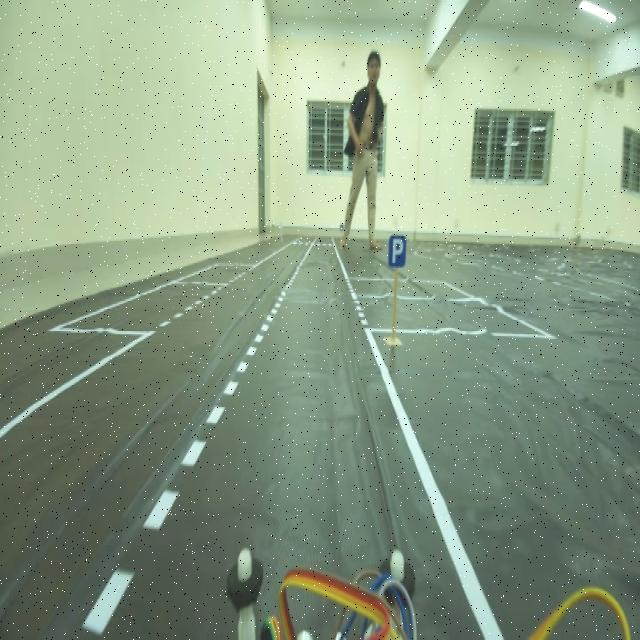parking: (386, 228, 408, 274)
